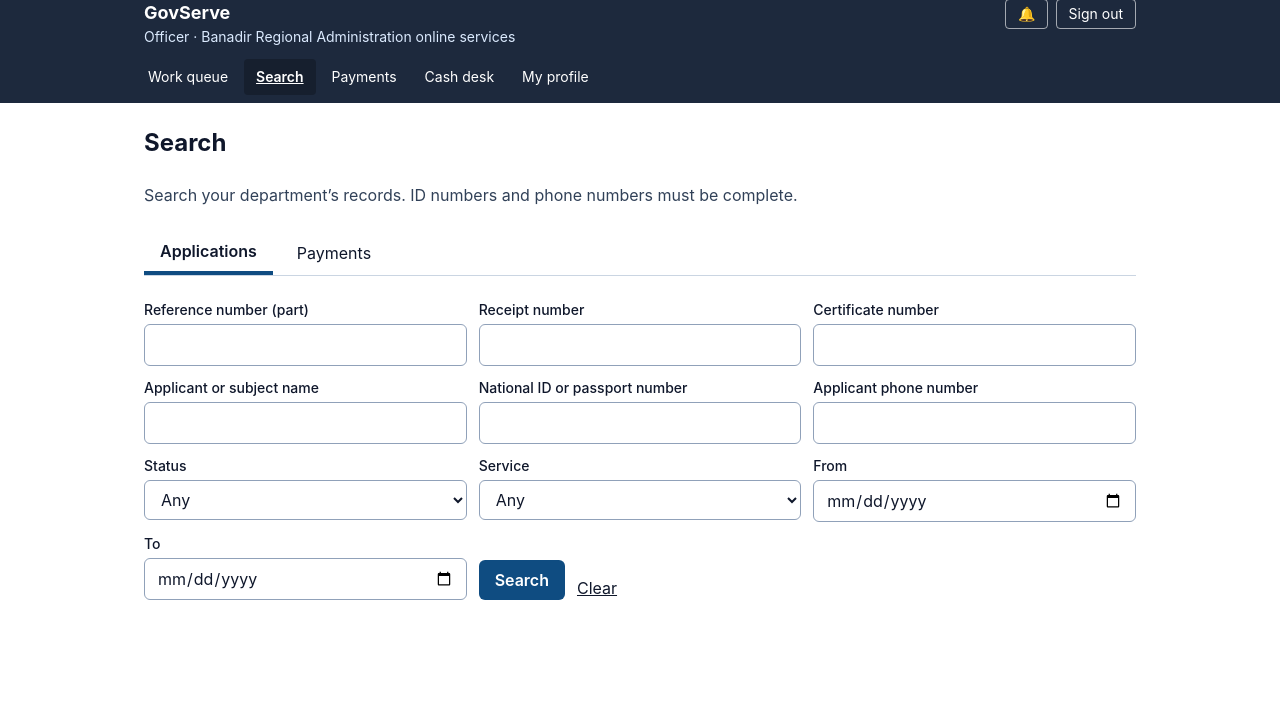
Test: staff search › should send criteria in the body (never the URL) and page with the cursor
This screenshot has width=1280, height=707.
Step 1. Type "SO 555 0001" into the field labelled "National ID or passport number" → (640, 423), box [479,402,801,444]
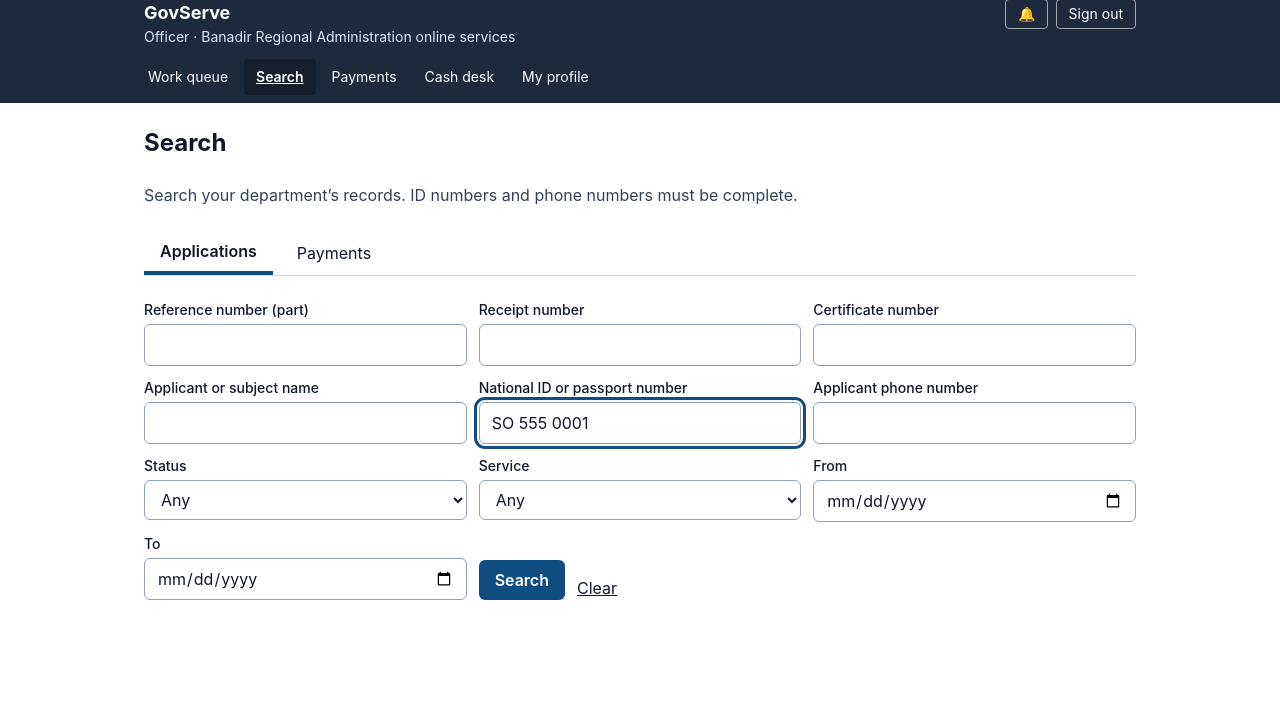
Step 2. Click the button "Search" → click(522, 580), box [479,560,565,600]
(page scrolled)
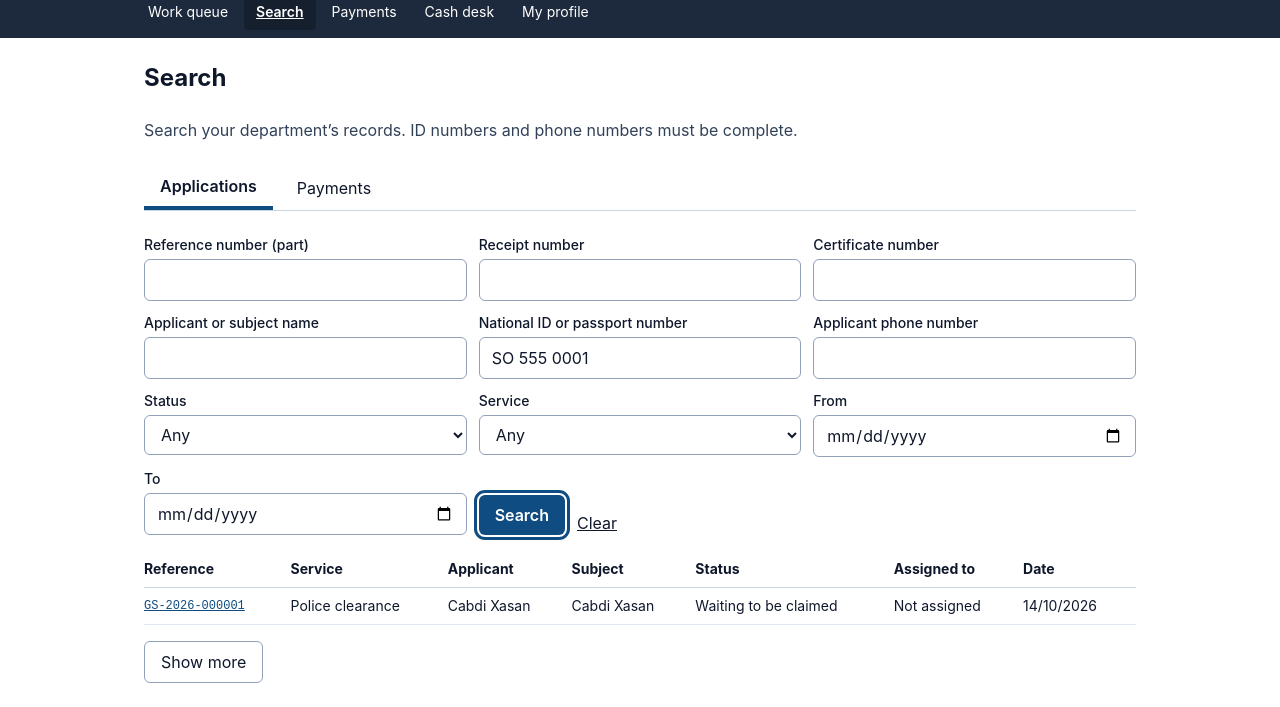
Step 3. Click the button "Show more" → click(204, 662), box [144,641,263,683]
(page scrolled)
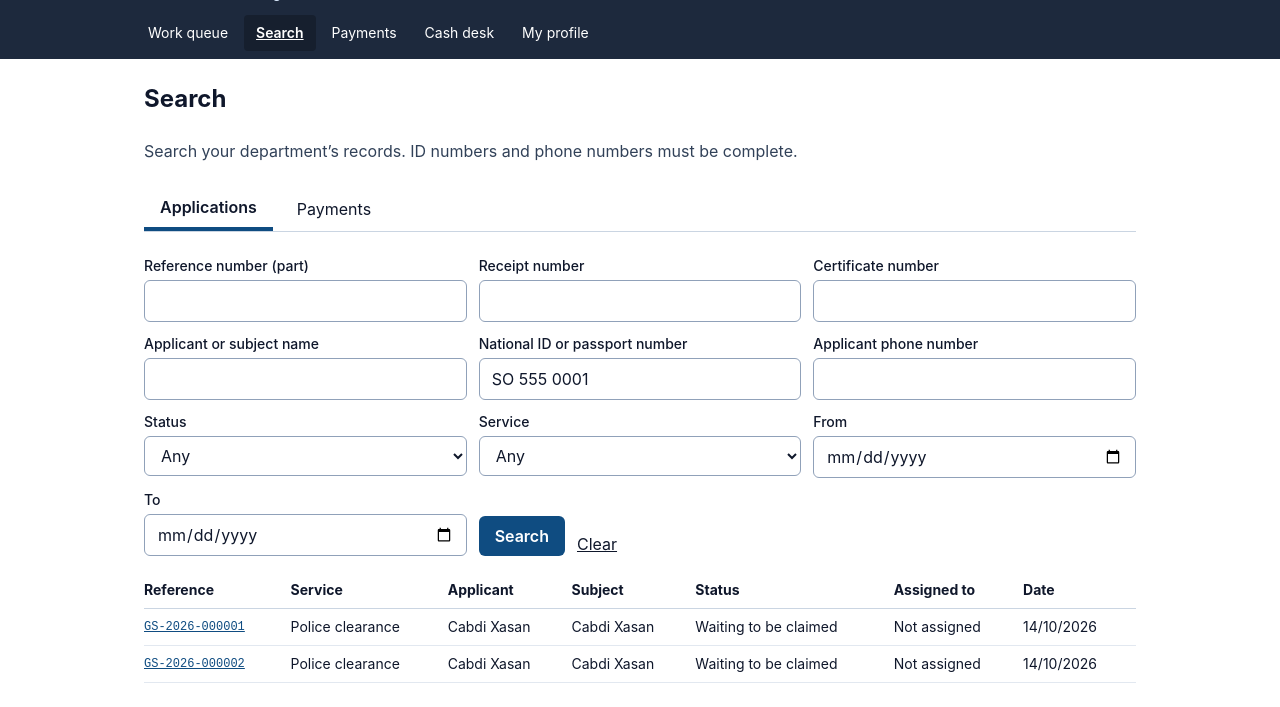
Expected: the link "GS-2026-000002" is shown, [144,657,245,671]
